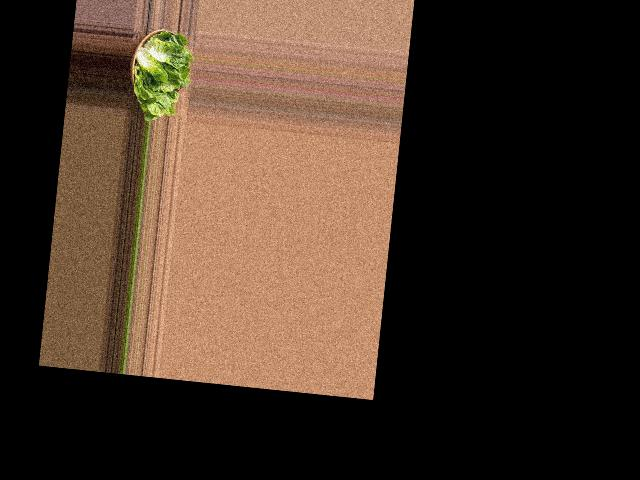lettuce: (125, 22, 193, 122)
